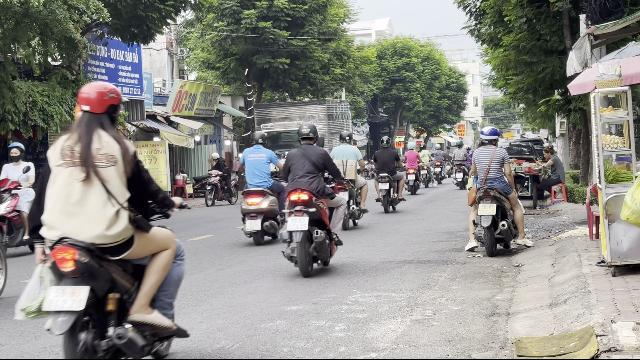helmet: (74, 80, 124, 124), (297, 122, 319, 144), (478, 126, 500, 146), (7, 141, 25, 161), (252, 130, 268, 146), (339, 129, 353, 143)
licenseplate: (41, 286, 89, 310), (288, 218, 308, 231), (478, 205, 496, 216), (246, 220, 260, 230)
motorcyclist: (12, 77, 190, 357), (279, 121, 345, 275), (462, 124, 528, 256), (236, 129, 284, 244), (0, 140, 38, 258), (330, 130, 370, 228)
